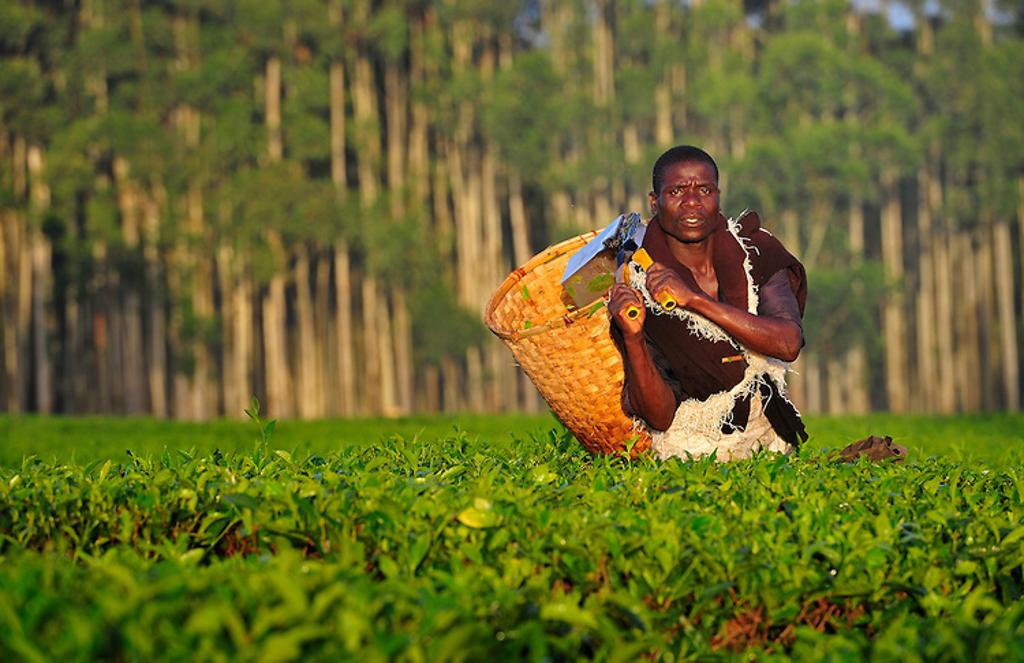face: (656, 160, 718, 242)
